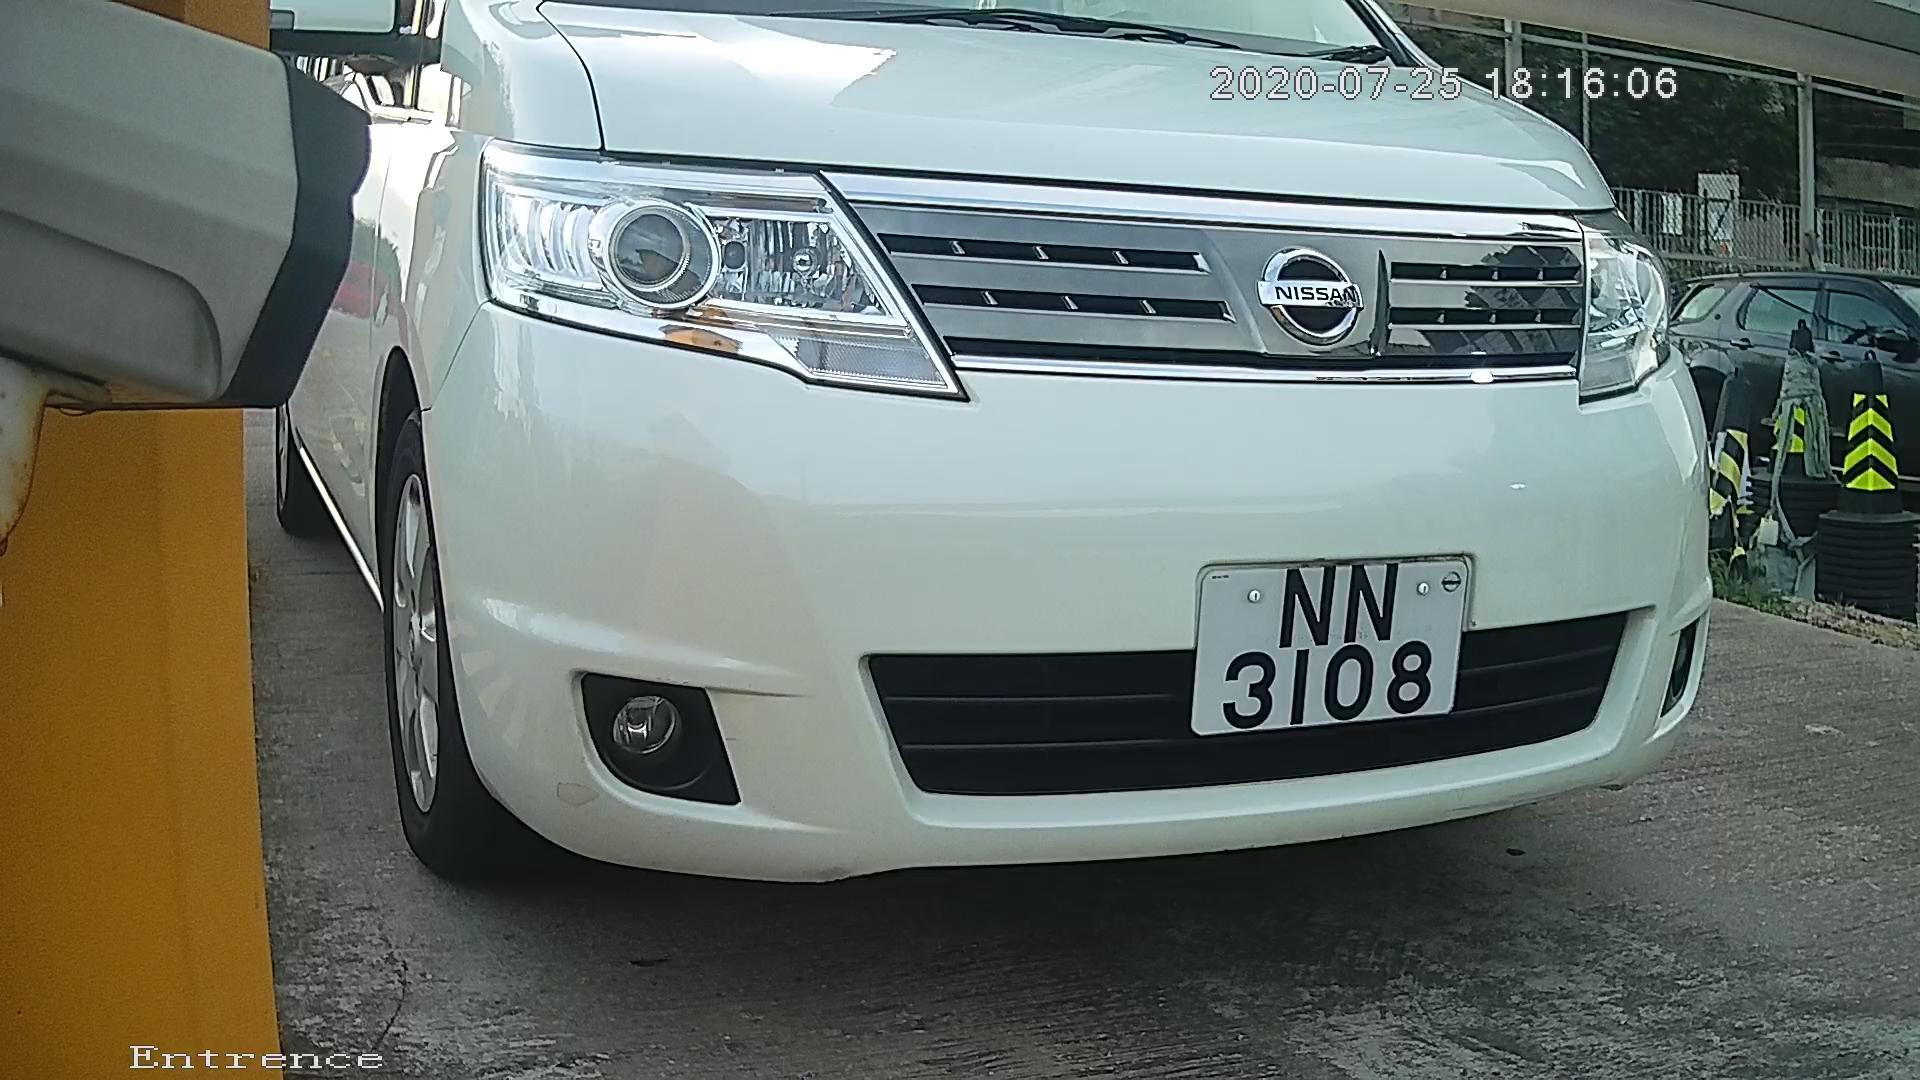License Plate: (1175, 531, 1483, 757)
